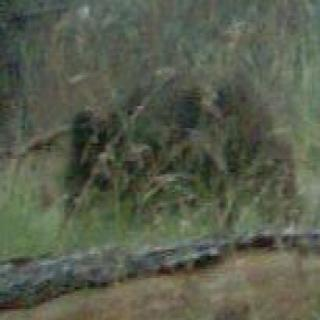Pig: (29, 85, 320, 245)
